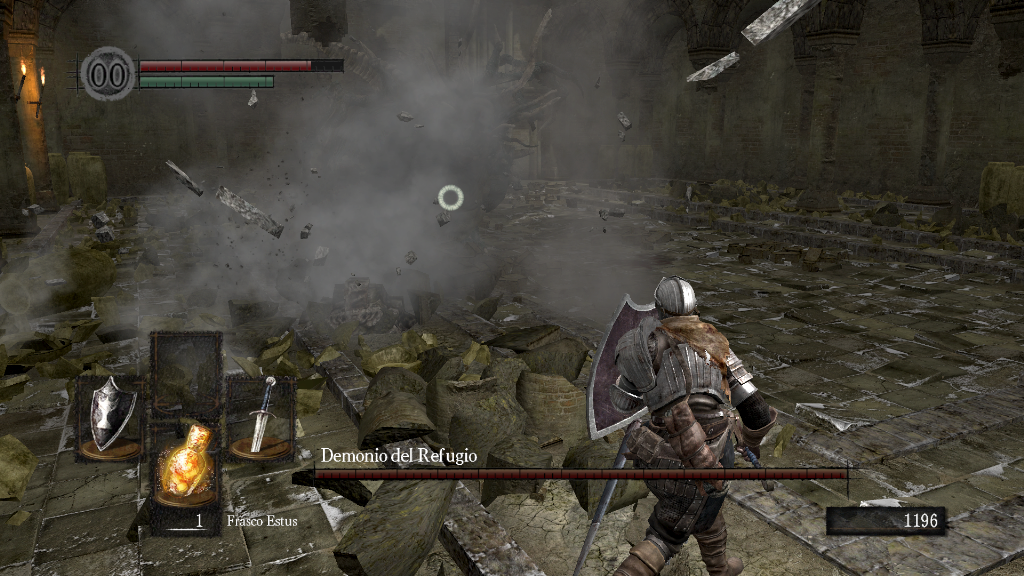bossHP: (314, 469, 847, 479)
health: (138, 58, 343, 71)
humanity: (80, 45, 136, 102)
player: (586, 277, 780, 576)
souls: (825, 506, 945, 536)
stamina: (138, 74, 274, 88)
